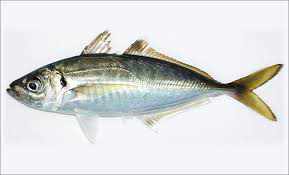azi: (6, 33, 279, 127)
